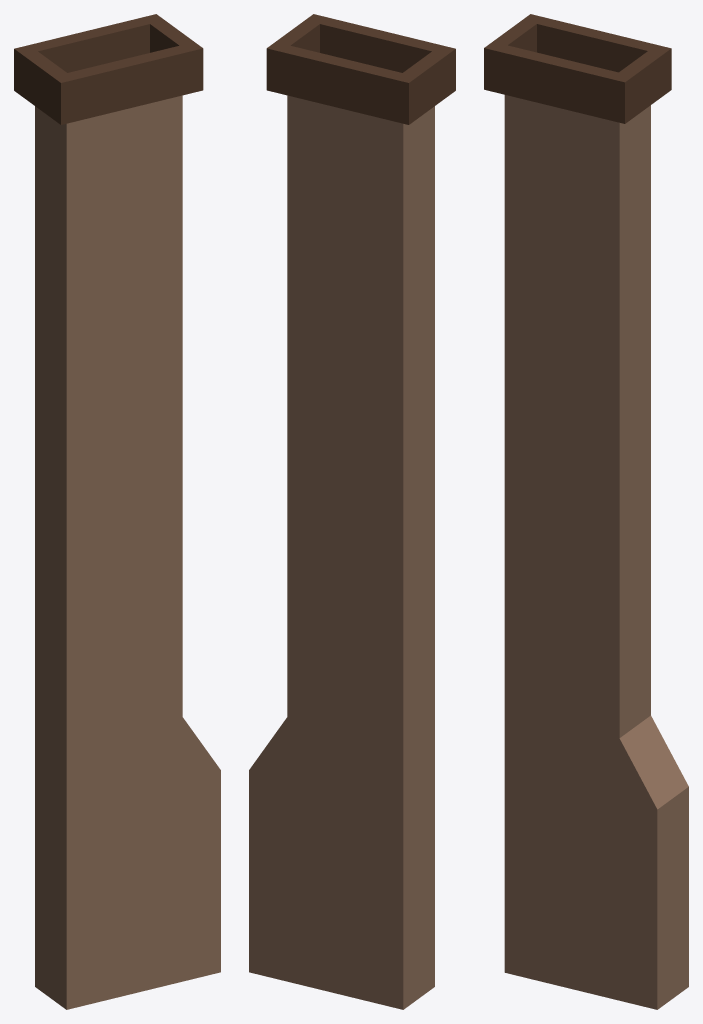
File: Chimney4_C2.fbx
The picture shows the model from 3 angles, left to right: view 1: azimuth 30°, elevation 25°; view 2: azimuth 150°, elevation 25°; view 3: azimuth 330°, elevation 25°; orthographic projection.
Parts seen in each view (by area): view 1: Chimney4_C2; view 2: Chimney4_C2; view 3: Chimney4_C2.
Boxes of the visible parts, bbox=[...] form: Chimney4_C2: bbox=[14, 14, 220, 1009]; Chimney4_C2: bbox=[249, 14, 455, 1009]; Chimney4_C2: bbox=[484, 14, 688, 1009].
Bounding box in the file's own units: 99.24 × 530 × 48.19.
